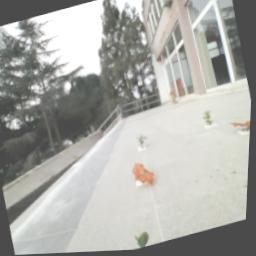herb: (203, 112, 216, 131), (136, 135, 151, 151)
wild: (131, 158, 161, 192), (228, 116, 253, 139)
